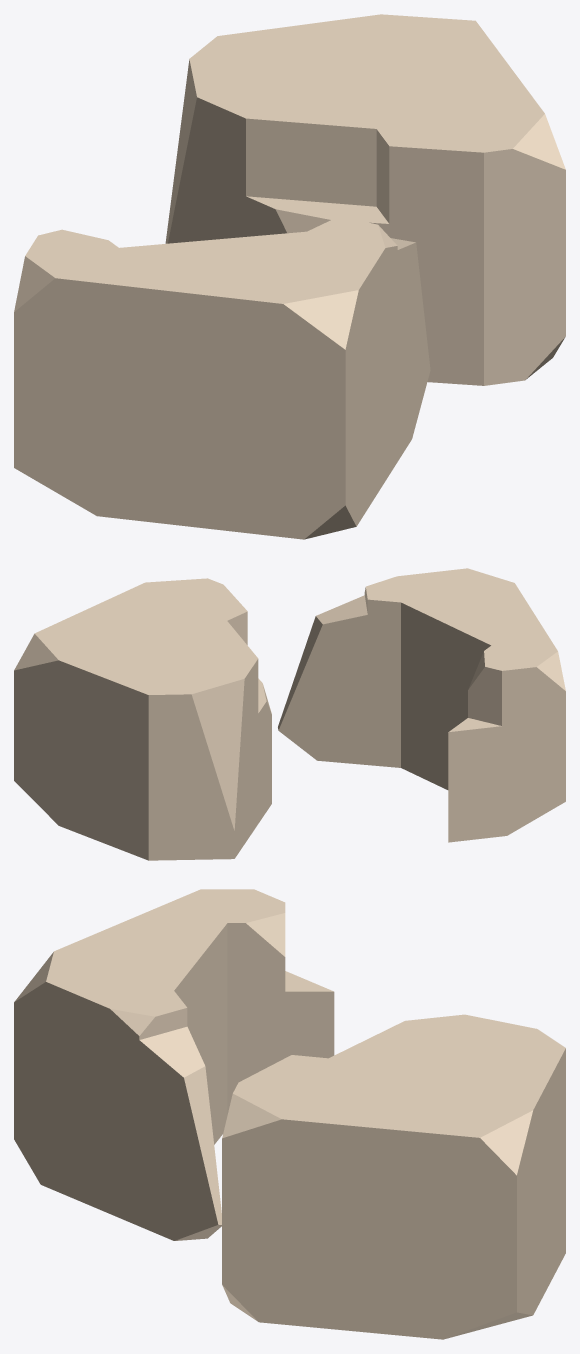
Rendered from Prop_Rubble_2.glb.
3 views of the same model, one above another, from view 1: azimuth 30°, elevation 25°; view 2: azimuth 150°, elevation 25°; view 3: azimuth 270°, elevation 25° (orthographic). The views are drawn at different scales.
Parts seen in each view (by area): view 1: Sandstone_4; view 2: Sandstone_4; view 3: Sandstone_4.
Boxes of the visible parts, left/top/right/bottom form: Sandstone_4: left=14, top=14, right=565, bottom=539; Sandstone_4: left=14, top=568, right=565, bottom=860; Sandstone_4: left=14, top=889, right=565, bottom=1339.
Bounding box in the file's own units: 0.4128 × 0.15 × 0.3657.
